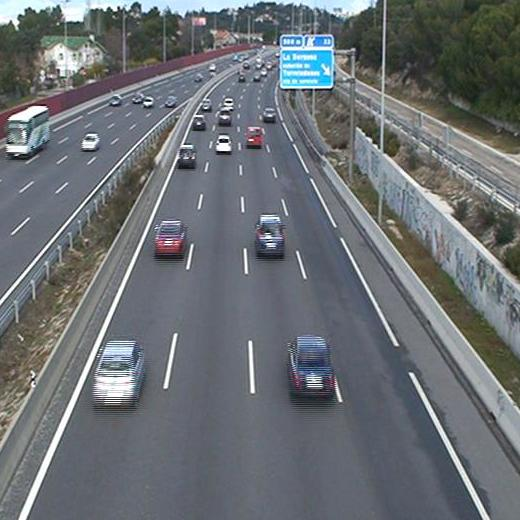car: (87, 335, 151, 405), (283, 330, 339, 395), (252, 213, 287, 255), (152, 217, 188, 256), (173, 142, 198, 167), (188, 113, 208, 134), (213, 132, 235, 151), (215, 106, 232, 128), (261, 106, 279, 124), (197, 96, 214, 112), (223, 95, 237, 110)
van: (243, 125, 266, 148)
